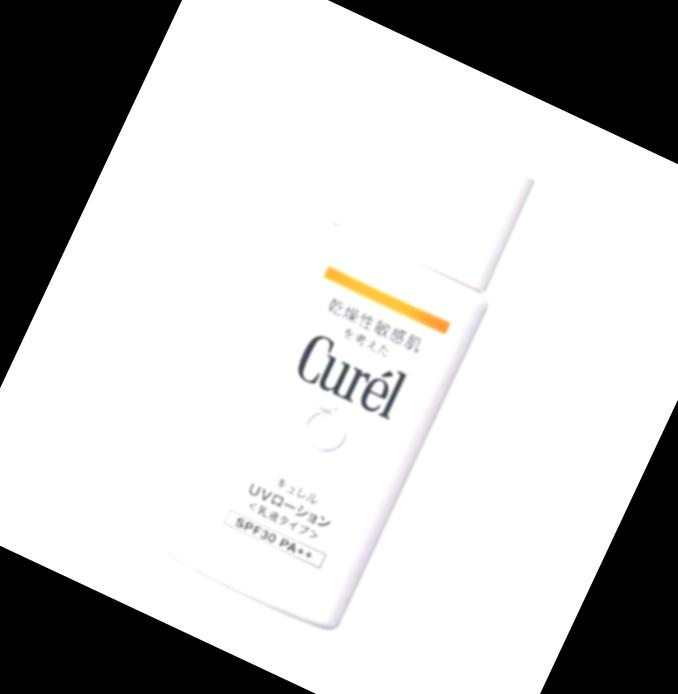cosmetic: (163, 99, 547, 631)
